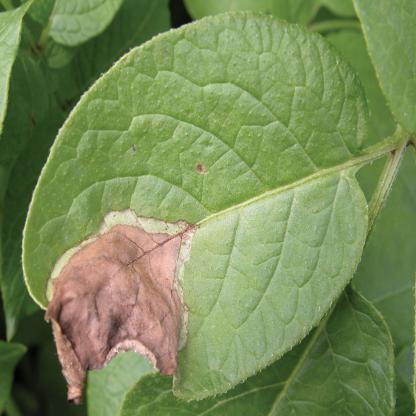Potato leaf late blight: (19, 10, 379, 402)
